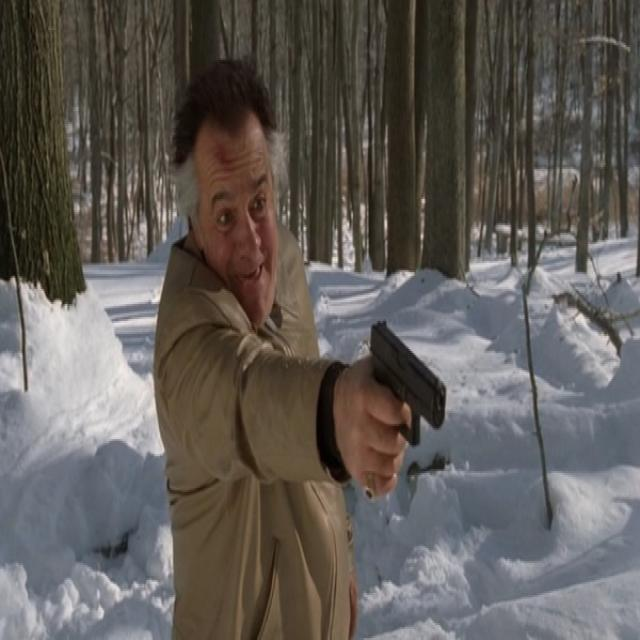weapons: (358, 297, 456, 499)
